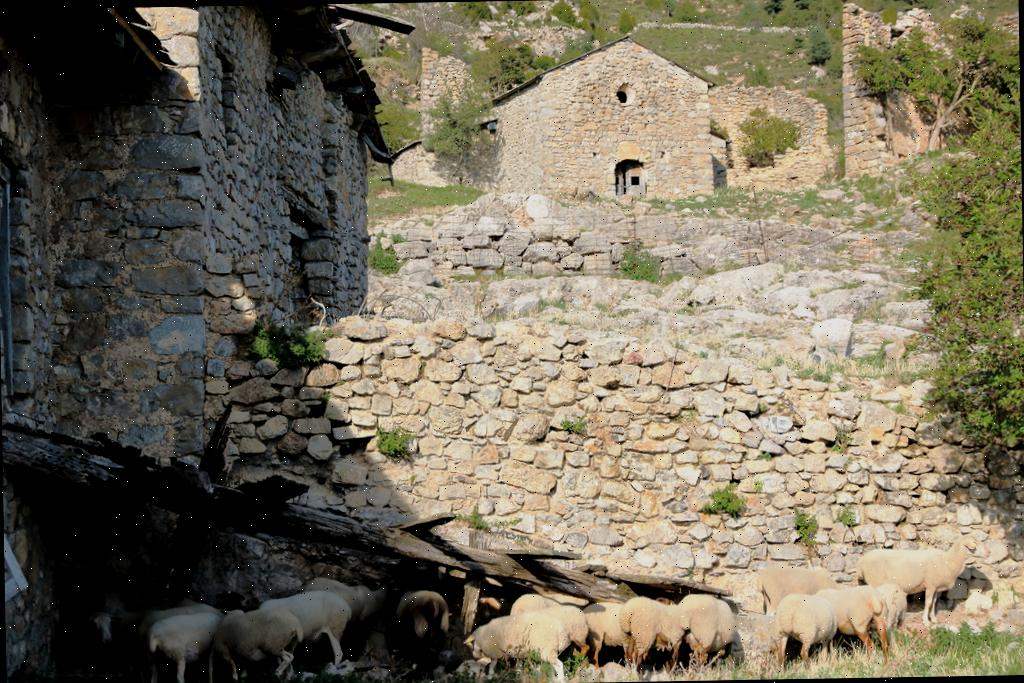Sheep: (854, 531, 996, 635), (290, 575, 406, 668), (214, 585, 348, 662), (466, 610, 580, 682), (810, 583, 892, 669), (220, 603, 300, 683), (380, 587, 450, 676), (144, 607, 225, 683), (619, 595, 689, 680), (663, 593, 736, 673), (766, 588, 838, 668), (754, 558, 846, 619), (82, 604, 156, 678), (578, 596, 642, 669), (516, 603, 590, 664)
